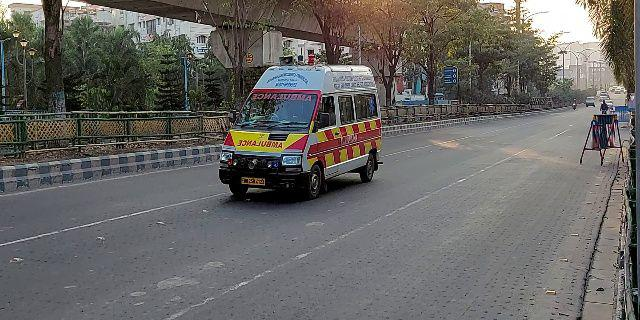Van: (214, 65, 385, 202)
